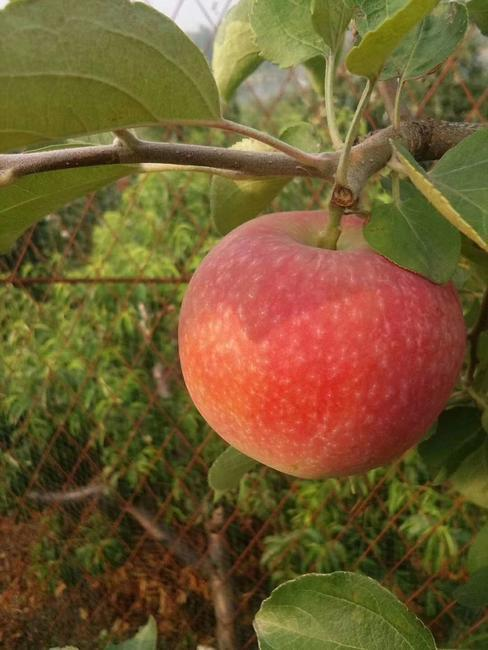apple: (175, 205, 460, 478)
